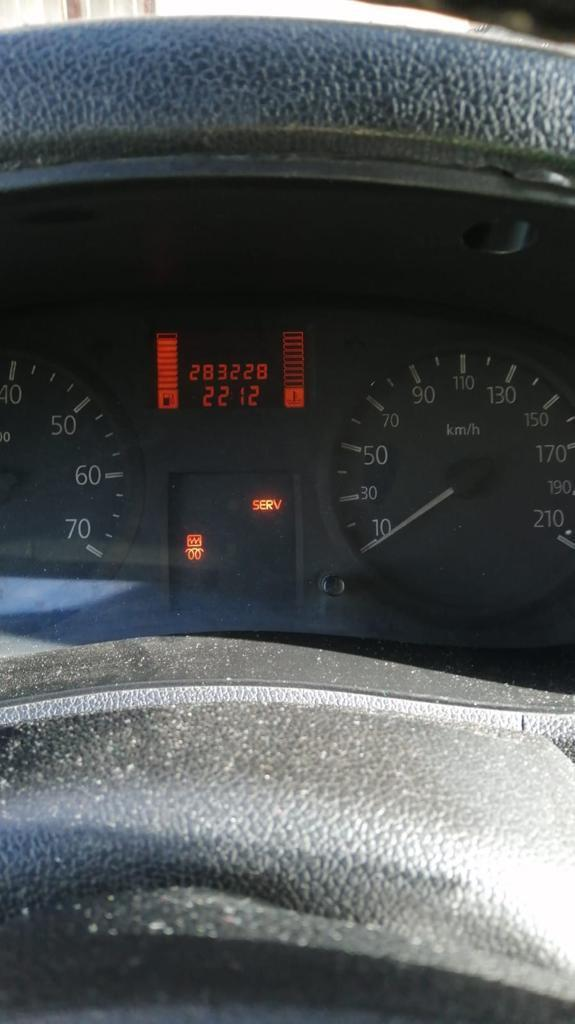1: (239, 385, 245, 408)
2: (216, 384, 229, 408), (248, 384, 261, 406), (202, 385, 213, 408), (243, 362, 254, 381), (188, 363, 200, 380), (230, 362, 240, 381)
3: (217, 362, 228, 382)
8: (256, 362, 268, 379), (202, 363, 214, 380)
odometer: (148, 322, 310, 417)
